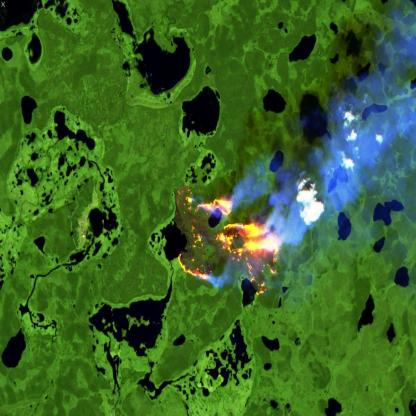fire: (174, 180, 288, 300)
